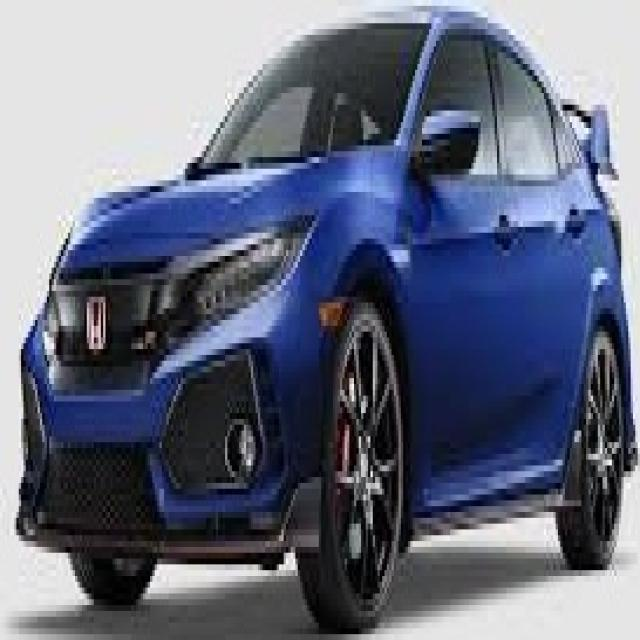blue: (16, 0, 640, 632)
